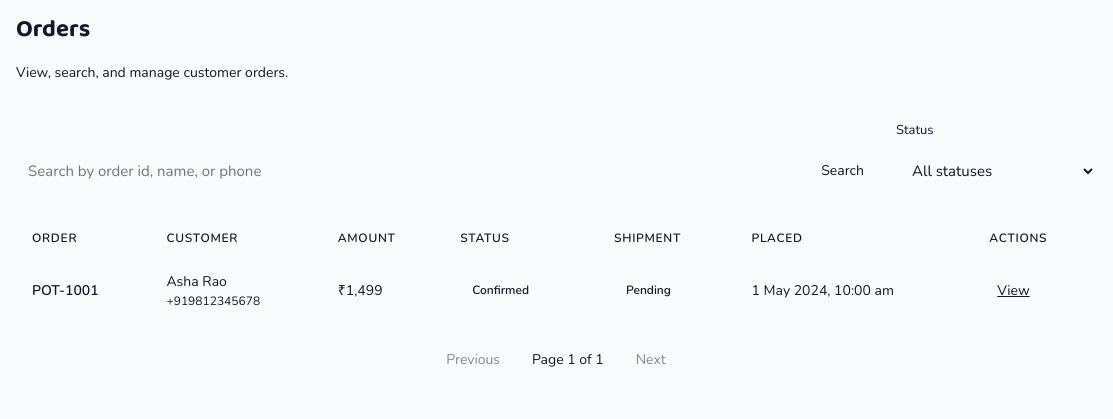
Scenario: Admin OrdersPage (Req 17) › clears active search/status filters via the clear-filters control
Expected: the text "POT-1001" is shown, [32, 280, 99, 300]
Type "Asha" into the search field named "search orders" at (407,170), box [16, 148, 797, 192]
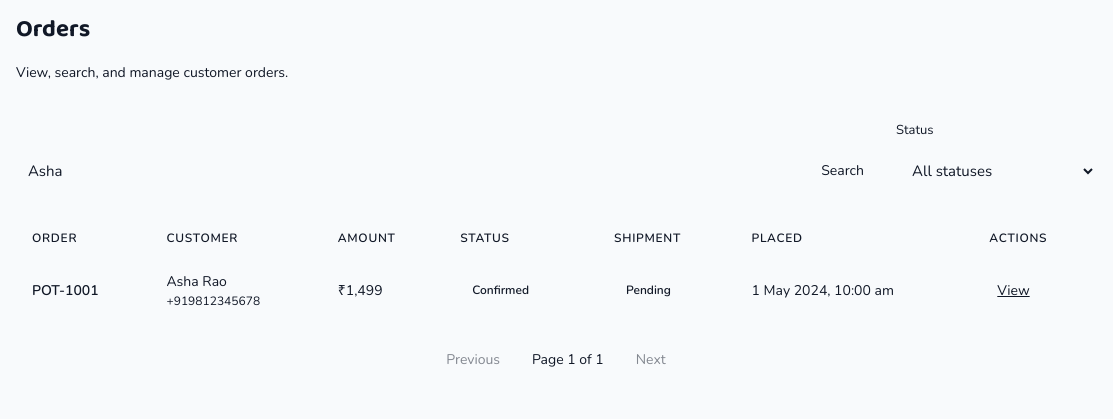
Click the button "Search" at (843,170), box [805, 148, 880, 192]
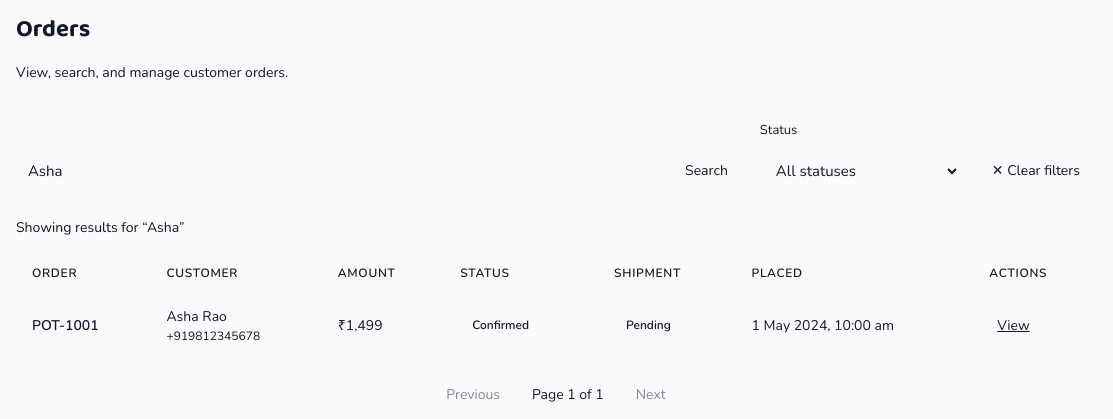
Expected: the text with test id "active-filters" shows "Asha", [147, 218, 179, 236]
Click the button with test id "clear-filters" at (1036,170), box [976, 148, 1096, 192]
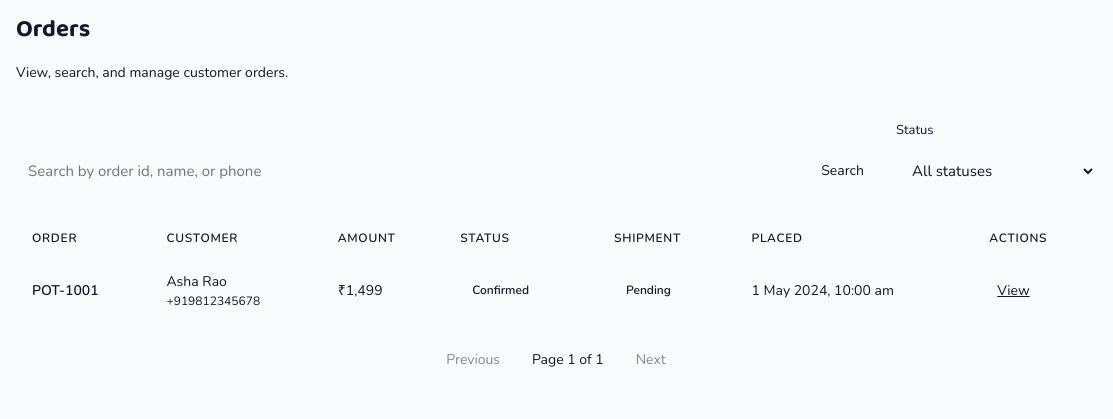
Expected: the button with test id "clear-filters" is gone
Expected: the search field named "search orders" is empty, [16, 148, 797, 192]
